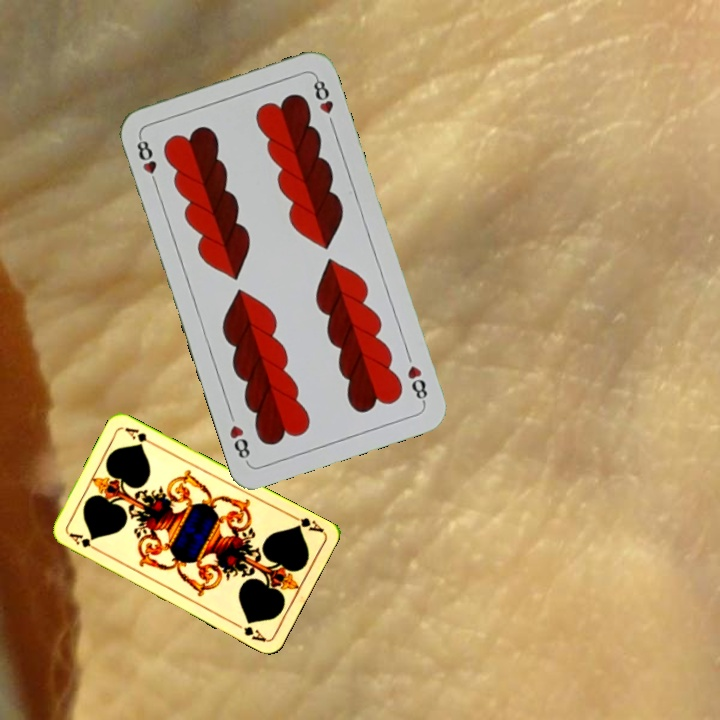GA: (287, 511, 326, 535), (65, 529, 102, 554)
H8: (132, 132, 161, 190), (403, 361, 430, 406)
